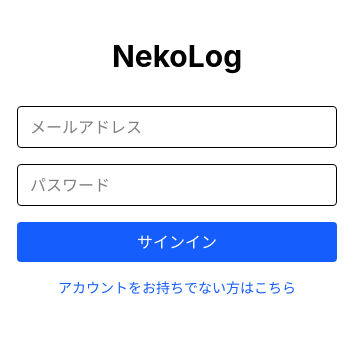
Test case: LoginPage › should switch to sign-up mode
Click the button "アカウントをお持ちでない方はこちら" at coordinates (177, 288), box x1=17 y1=278 x2=337 y2=298
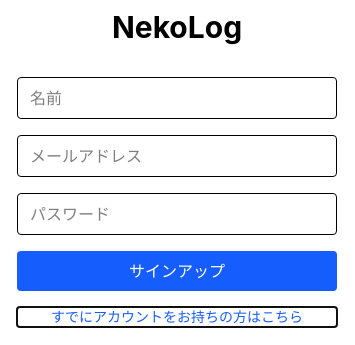
Expected: the field with placeholder "名前" is shown, x1=17 y1=77 x2=337 y2=119
Expected: the button "サインアップ" is shown, x1=17 y1=251 x2=337 y2=291
